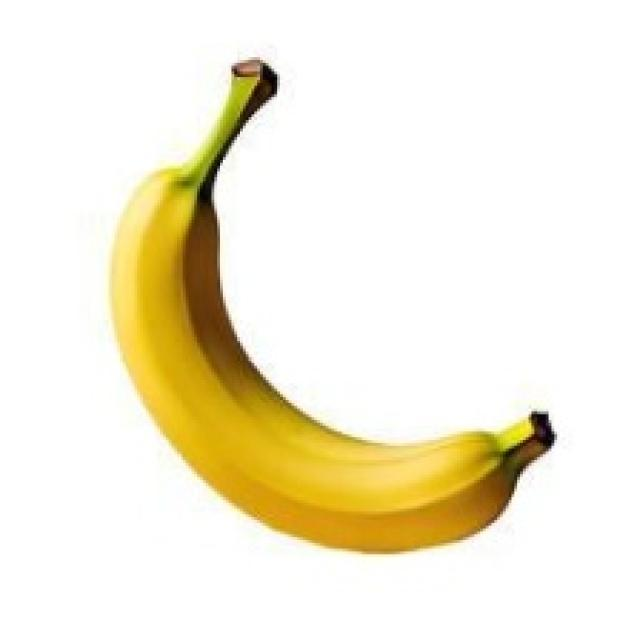Banana: (106, 54, 554, 554)
